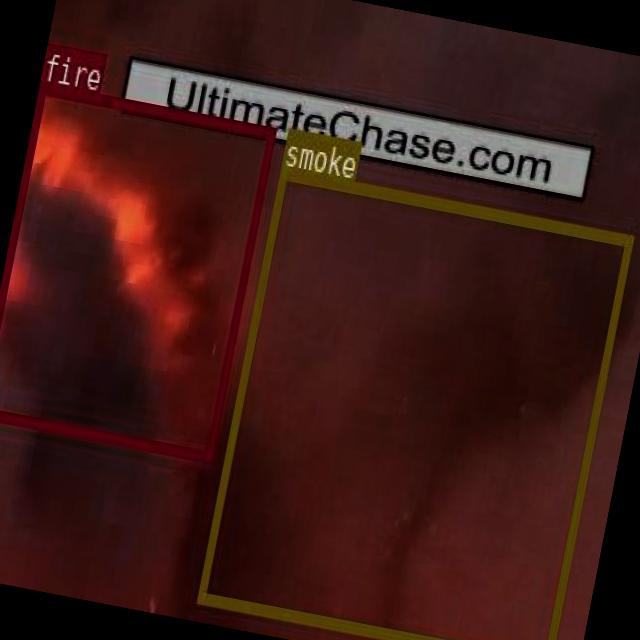fire: (0, 81, 274, 460)
smoke: (195, 165, 633, 640)
